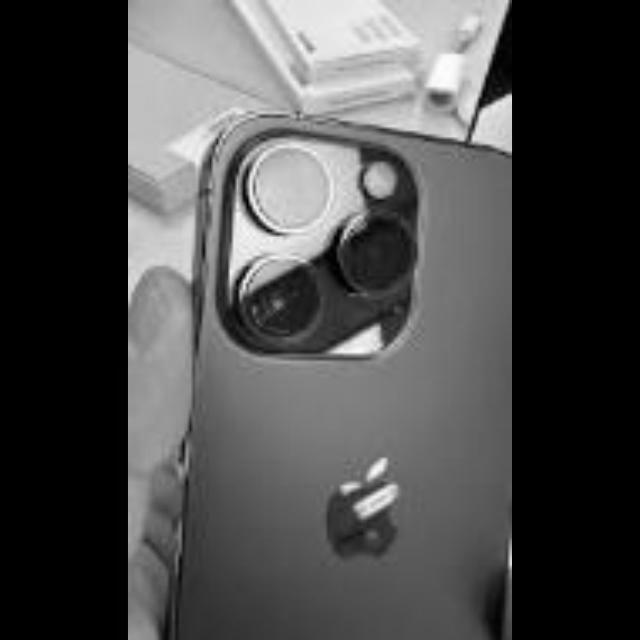fake: (192, 84, 514, 630)
